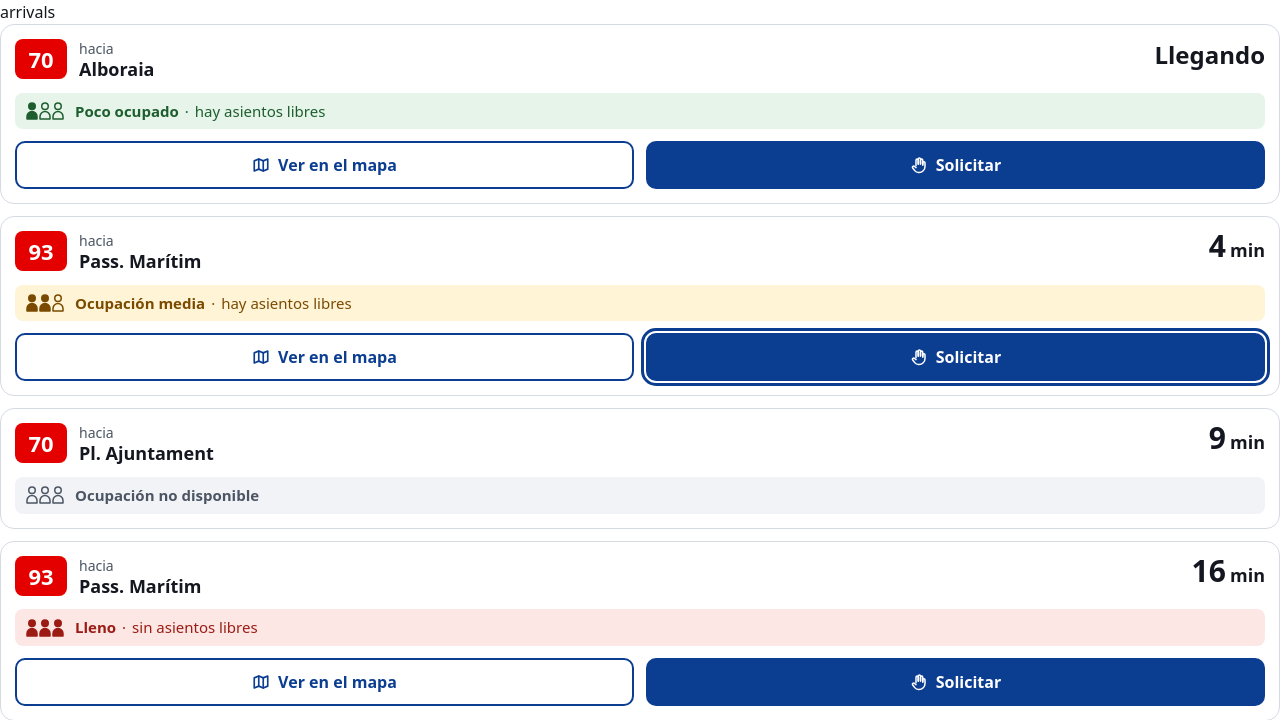
RequestDialog › [passenger_alert_ui.AC-06] with a network error the dialog stays open with a focused role="alert" message
Step 1. Click the button named "Solicitar parada a la línea 93 hacia Passeig Marítim - Hospital Malva-rosa" → (956, 357), box [646, 333, 1265, 381]
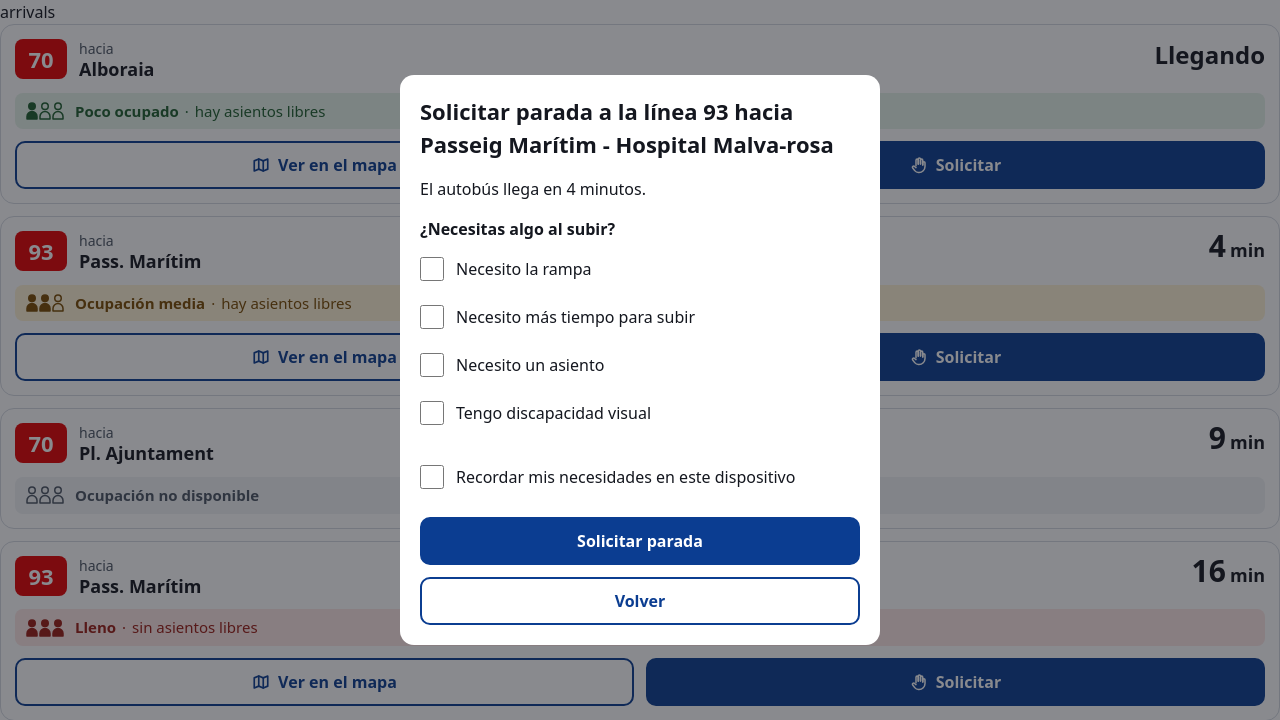
Step 2. Click the button "Solicitar parada" → (640, 541), box [420, 517, 860, 565]
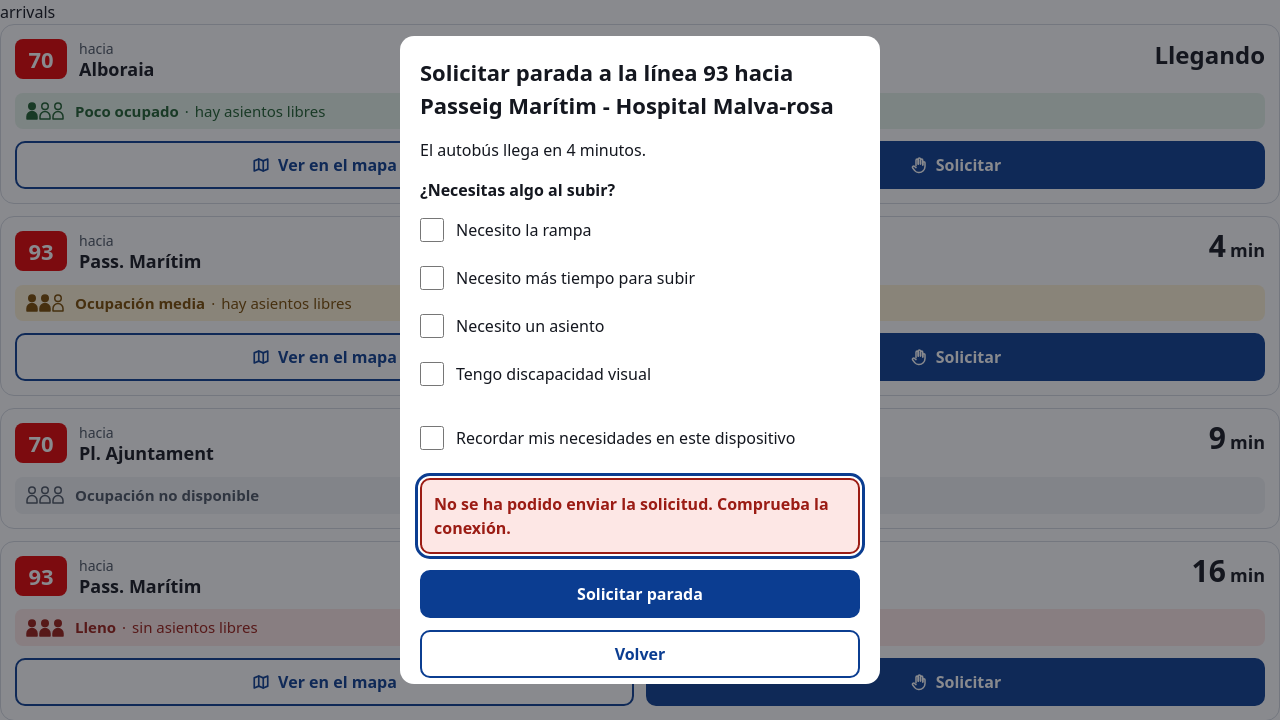
Check: the button "Solicitar parada" is enabled, box [420, 570, 860, 618]
Check: the message reads "No se ha podido enviar la solicitud. Comprueba la conexión.", box [434, 493, 829, 539]
